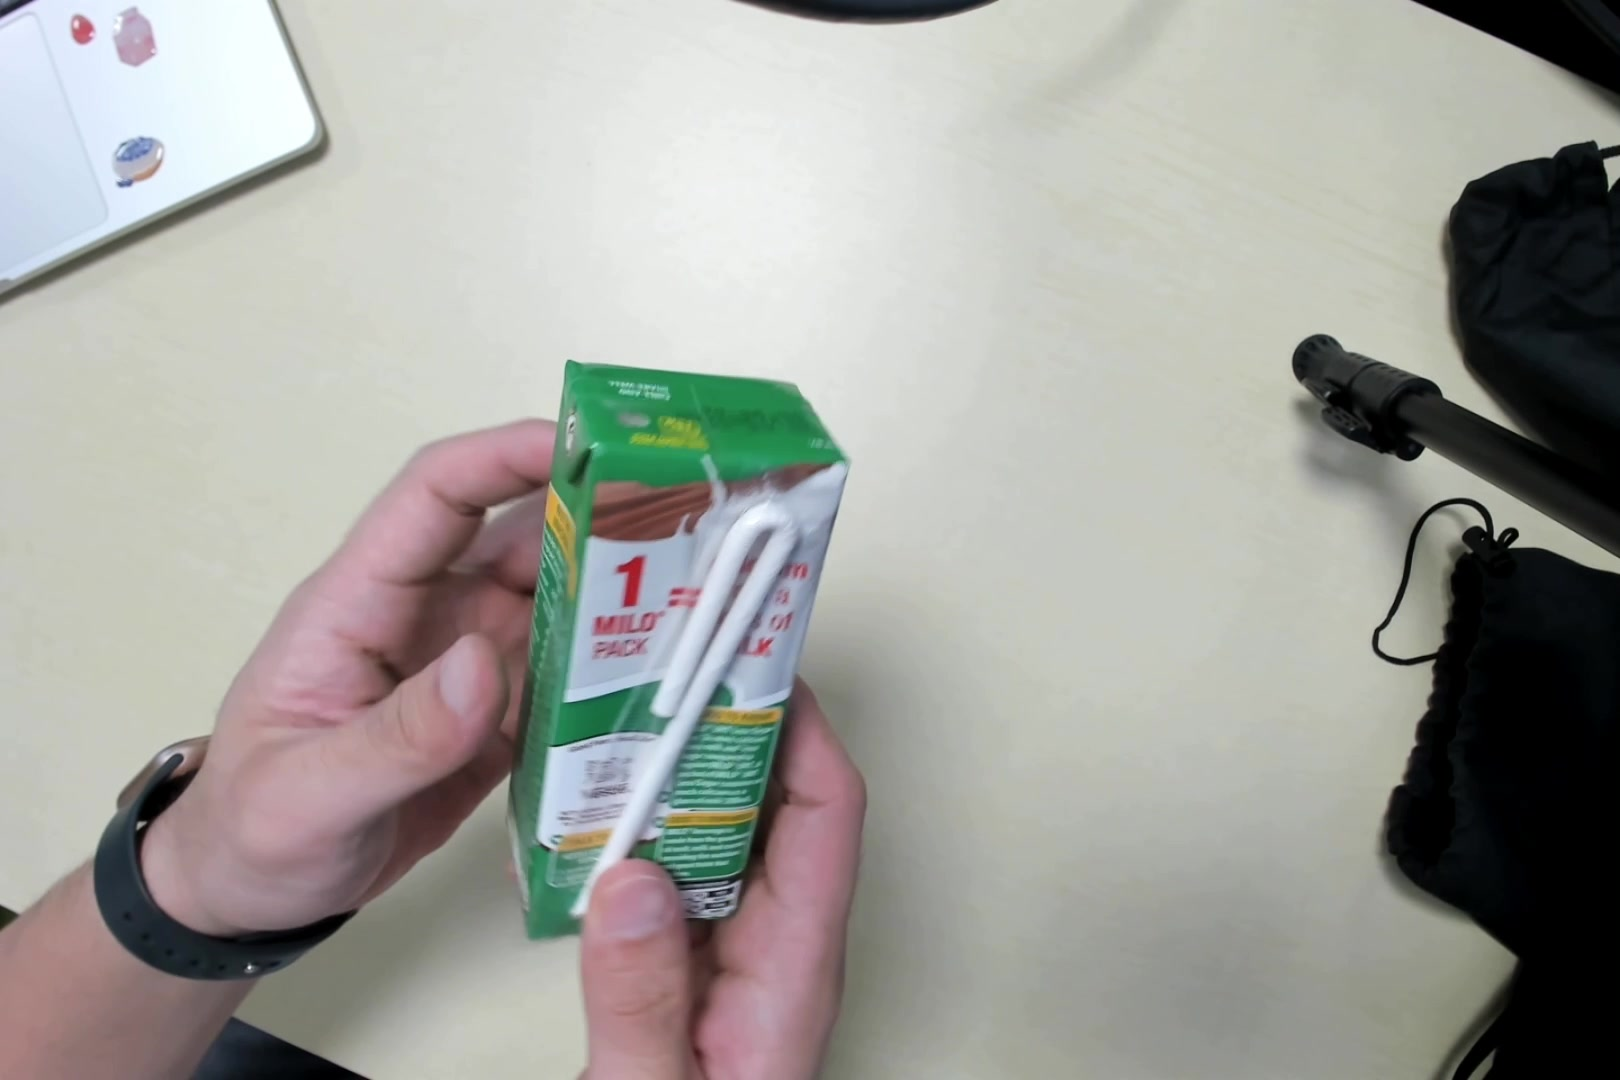SoftDrinksOtherReadyToDrink_100-199g_NonHalal_NonHealthy: (498, 356, 843, 940)
